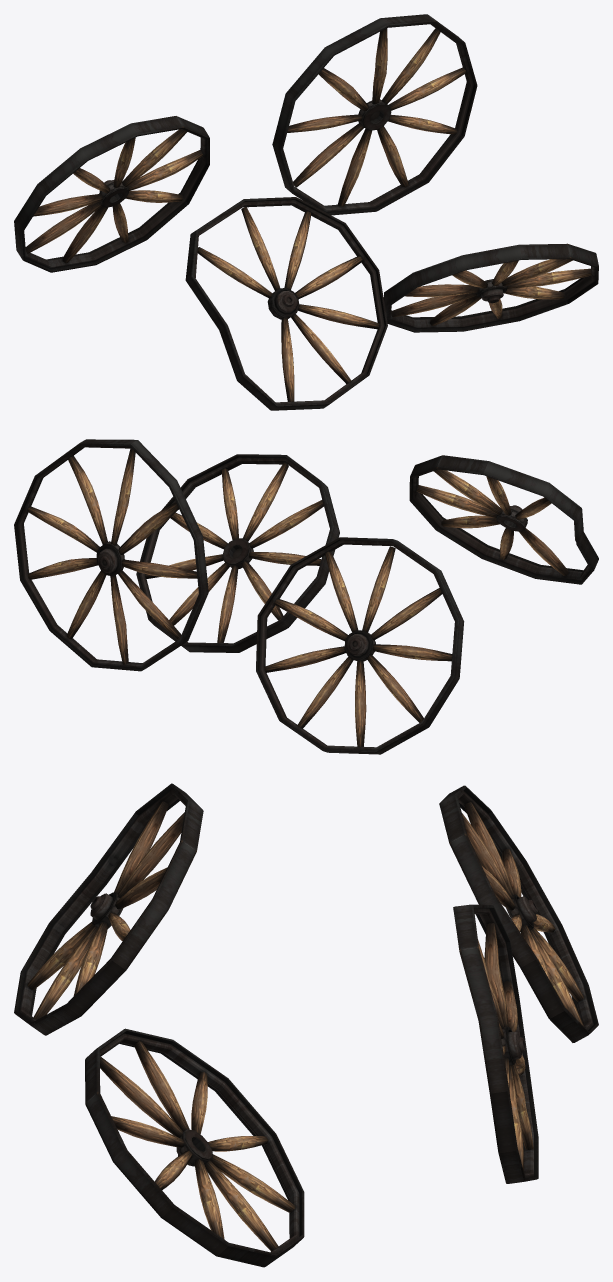
The model's file is wagon02_wheel.FBX.
The picture shows the model from 3 angles, top to bottom: view 1: azimuth 30°, elevation 25°; view 2: azimuth 150°, elevation 25°; view 3: azimuth 270°, elevation 25°; orthographic projection. The views are drawn at different scales.
Parts seen in each view (by area): view 1: wagon02_wheel; view 2: wagon02_wheel; view 3: wagon02_wheel.
Part boxes in pixels (x1,y1,x2,y2): wagon02_wheel: (14, 14, 598, 410); wagon02_wheel: (14, 439, 598, 754); wagon02_wheel: (14, 783, 598, 1267).
Bounding box in the file's own units: 404 × 227 × 357.
